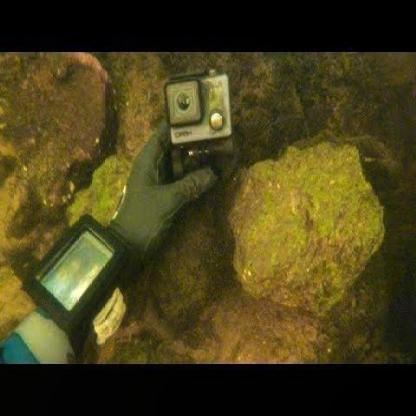electronics: (165, 72, 234, 179)
